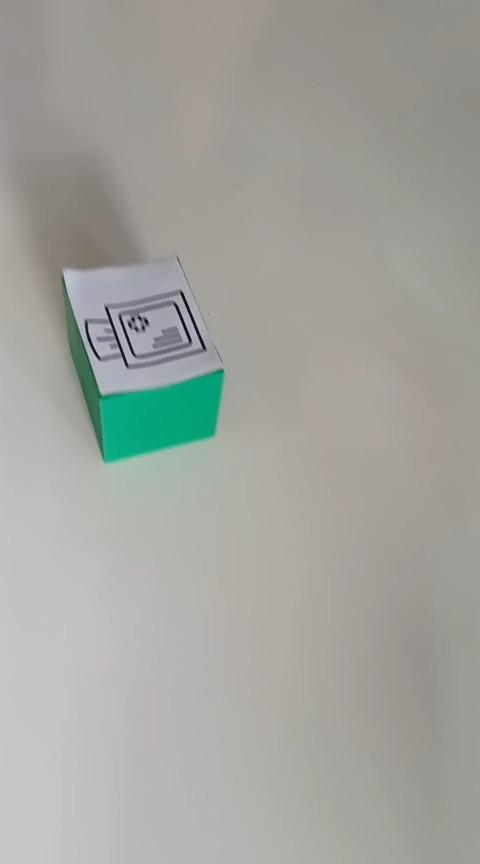Gauze: (59, 253, 225, 463)
